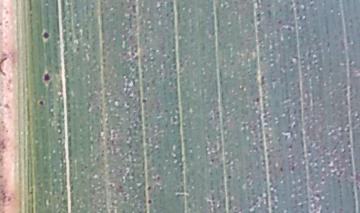tarspot: (38, 67, 54, 87), (38, 25, 53, 45), (221, 172, 236, 182), (37, 96, 45, 109), (139, 96, 149, 105), (144, 184, 154, 193), (145, 196, 155, 205)
